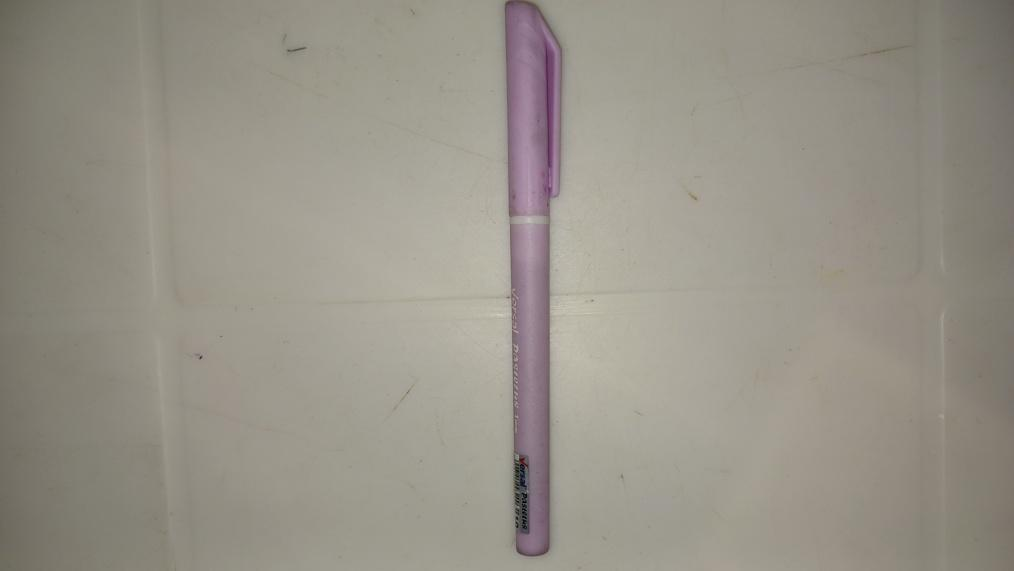pen: (504, 0, 563, 571)
